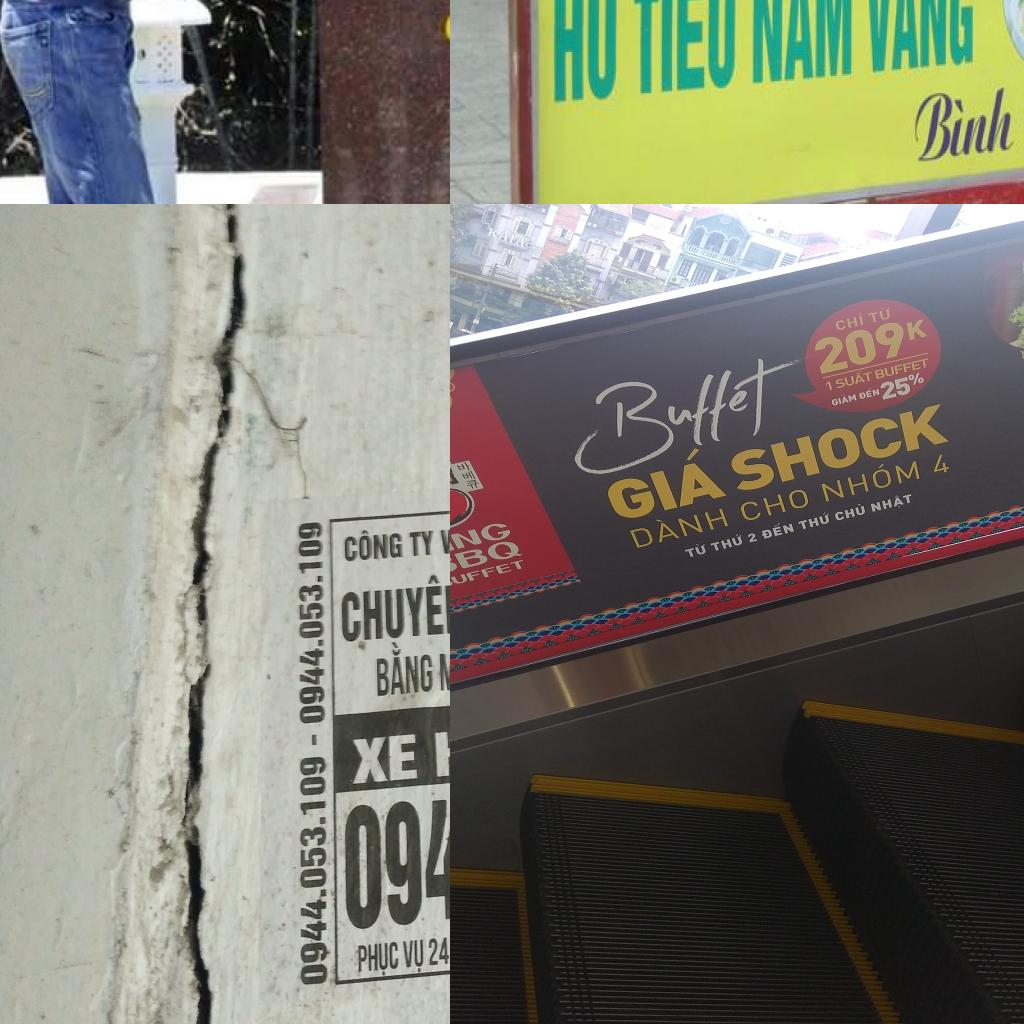text: (536, 348, 811, 482), (722, 402, 954, 494), (341, 770, 450, 938), (625, 0, 737, 94), (599, 446, 729, 525), (906, 80, 1018, 166), (749, 0, 855, 86), (861, 0, 977, 77), (340, 570, 450, 644), (546, 0, 619, 106), (298, 754, 330, 989), (297, 520, 328, 726), (812, 319, 908, 376), (820, 454, 922, 503), (627, 504, 730, 550), (374, 638, 436, 698), (352, 732, 420, 786), (450, 538, 524, 577), (739, 486, 812, 524), (450, 520, 515, 558), (450, 558, 527, 590), (344, 527, 406, 563), (357, 940, 401, 979), (878, 371, 927, 401), (873, 357, 931, 380), (486, 227, 528, 248), (834, 368, 874, 390), (402, 938, 425, 976), (427, 931, 450, 968), (408, 528, 434, 558), (794, 511, 832, 531), (759, 519, 795, 540), (709, 533, 745, 552), (833, 312, 866, 332), (437, 642, 450, 692), (834, 502, 867, 521), (929, 452, 953, 476), (437, 521, 450, 562), (906, 318, 930, 340), (682, 540, 709, 558), (867, 306, 892, 324), (831, 392, 858, 407), (857, 386, 882, 400), (524, 241, 547, 254), (745, 530, 759, 544), (823, 379, 836, 392)
